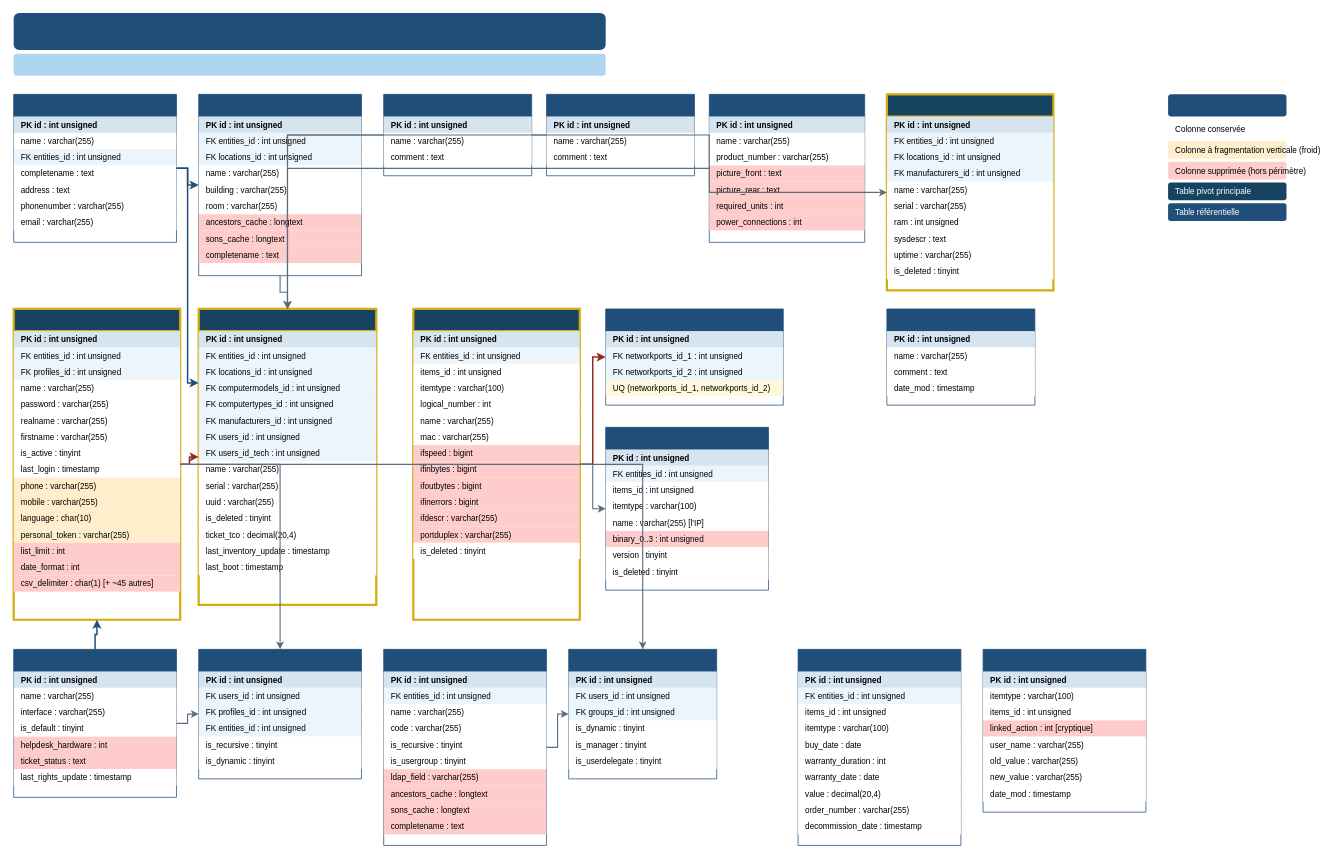
Some shapes in this 1333 by 858 pixel diagram are drawn without their labels. The shapes that lost their labels are listed below. From the top down, each one's box as (x1, y1, x2, y2) in pixels, then its label:
(13, 13, 605, 50): Schéma GLPI 11.0.6 — Tables sélectionnées (périmètre projet)
(13, 53, 605, 75): Instance MySQL unique — schéma monolithique
(1168, 94, 1286, 116): LÉGENDE
(383, 94, 532, 176): glpi_manufacturers
(546, 94, 694, 176): glpi_computertypes
(13, 94, 176, 242): glpi_entities
(198, 94, 361, 276): glpi_locations
(709, 94, 865, 242): glpi_computermodels
(885, 93, 1054, 291): glpi_networkequipments
(605, 308, 783, 405): glpi_networkports_networkports
(886, 308, 1035, 405): glpi_networks
(12, 307, 181, 620): glpi_users (68 colonnes !)
(197, 307, 377, 606): glpi_computers
(412, 307, 581, 620): glpi_networkports
(605, 427, 768, 590): glpi_ipaddresses
(13, 649, 176, 797): glpi_profiles
(198, 649, 361, 779): glpi_profiles_users
(568, 649, 717, 779): glpi_groups_users
(982, 649, 1146, 812): glpi_logs
(383, 649, 546, 845): glpi_groups
(797, 649, 961, 845): glpi_infocoms
